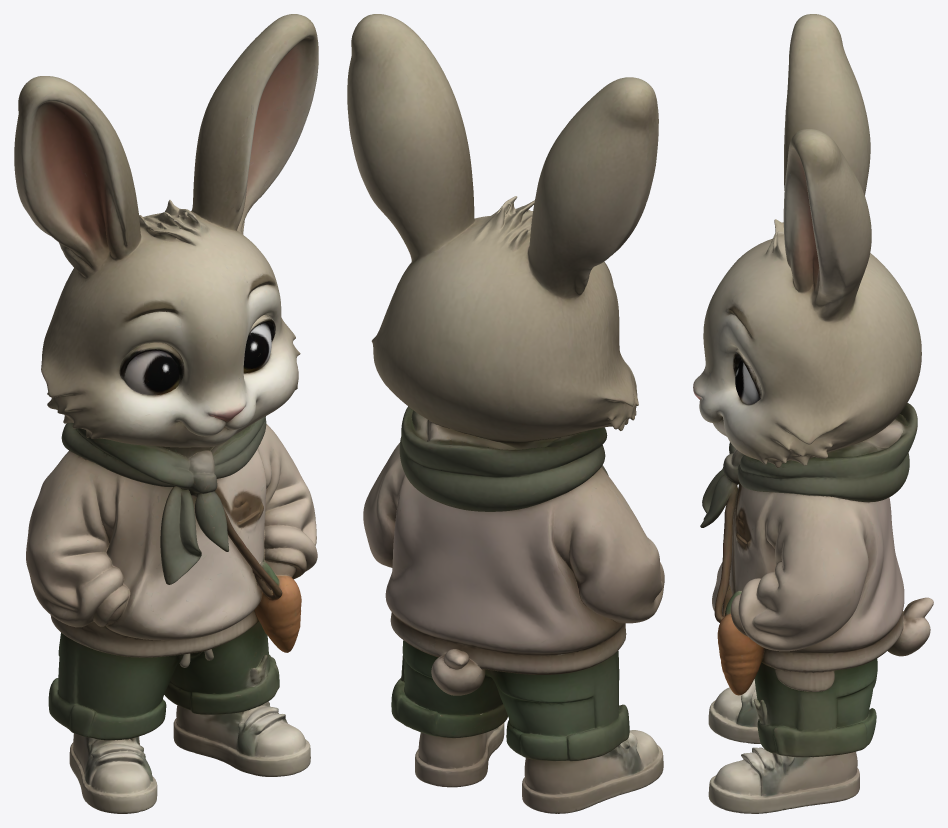
File: rabbit.glb
3 renders of one model, left to right at view 1: azimuth 30°, elevation 25°; view 2: azimuth 150°, elevation 25°; view 3: azimuth 270°, elevation 25°, orthographic. The views are drawn at different scales.
Parts seen in each view (by area): view 1: world; view 2: world; view 3: world.
Part boxes in pixels (x1,y1,x2,y2): world: (14,14,318,813); world: (347,14,664,813); world: (693,14,933,813).
Size of the model in its own units: 0.437 by 1 by 0.3152.
Materials: 1 (1 with a texture image).
